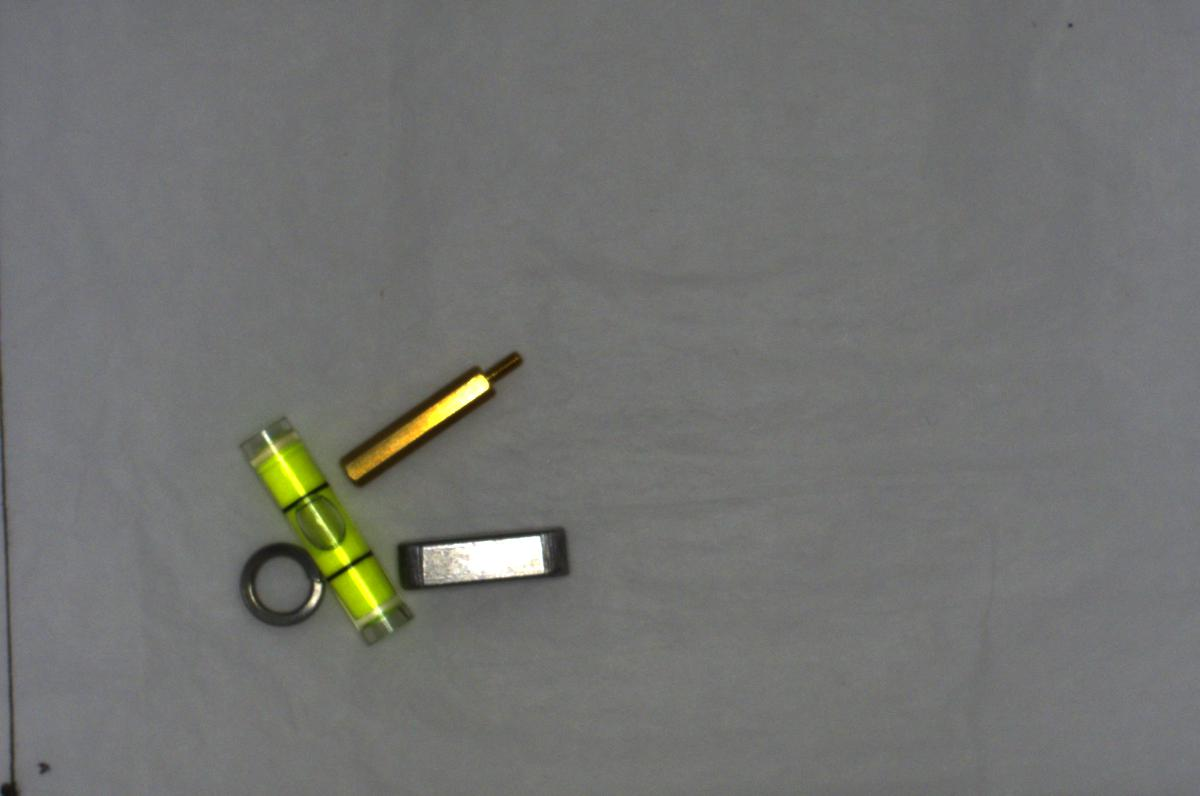Hexagon pillar: (333, 336, 532, 486)
Horizontal bubble: (230, 409, 413, 652)
Keybar: (392, 510, 574, 593)
Spring washer: (242, 541, 325, 627)
